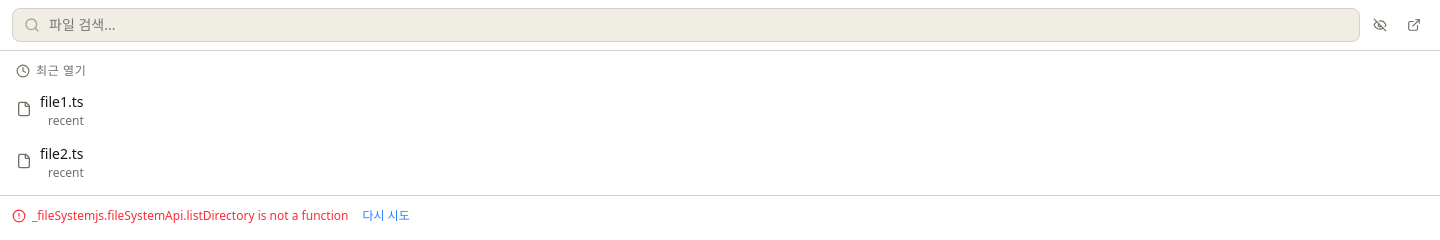
Test case: QuickFileExplorer › should show loading indicator while searching
Type "test" into the field with placeholder "파일 검색...". click: [686, 25]
box: x1=12 y1=8 x2=1360 y2=42
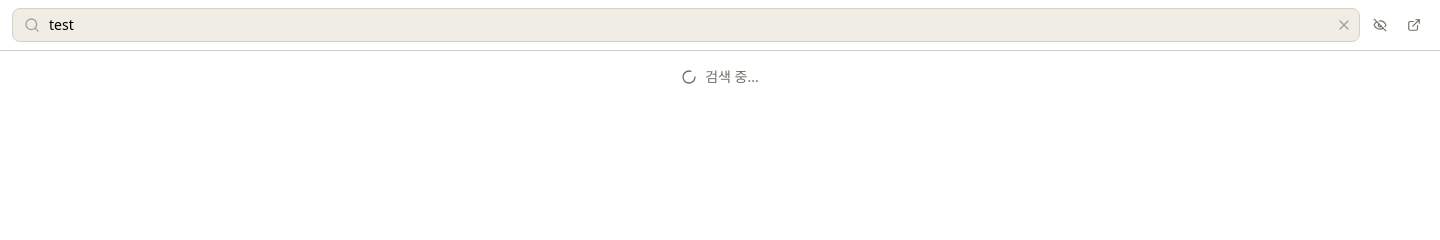
Expected: the text "검색 중..." is shown, x1=705 y1=67 x2=759 y2=87
